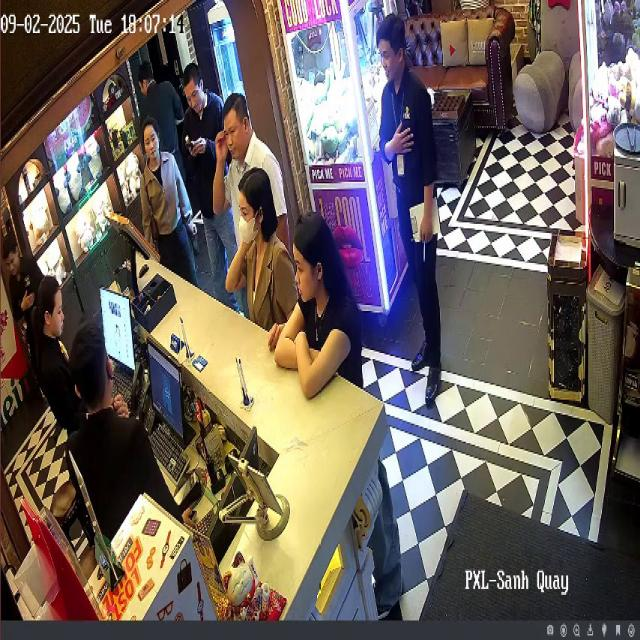khach: (284, 208, 369, 422), (225, 167, 303, 351), (218, 82, 288, 250), (137, 130, 206, 297), (178, 53, 230, 259), (132, 59, 178, 127)
nhan vien: (375, 11, 454, 409), (69, 317, 169, 588), (27, 249, 82, 453)
